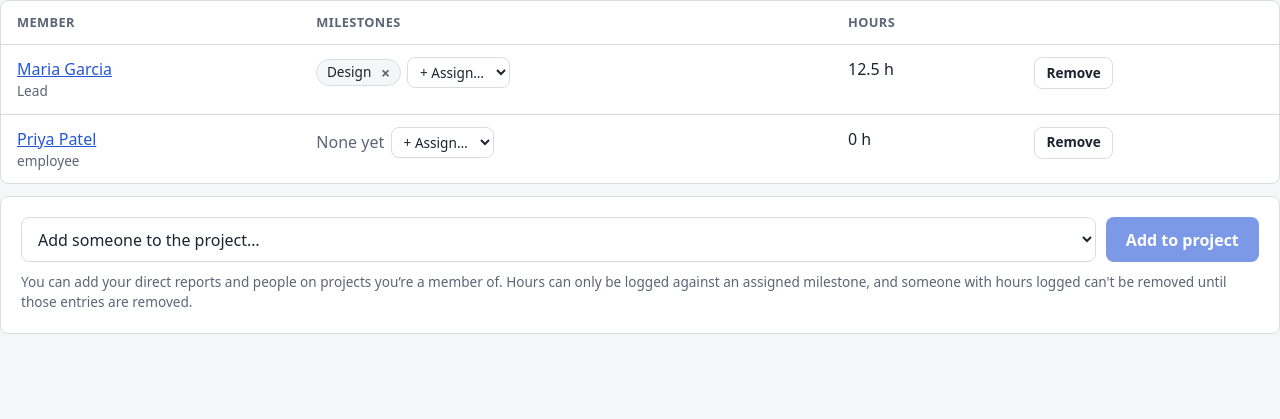
Test: TeamManager assign and unassign › shows the error when assigning fails
The width and height of the screenshot is (1280, 419).
Select "Build" in the dropdown named "Assign Maria Garcia to a milestone": {"x": 458, "y": 73} [407, 57, 510, 88]
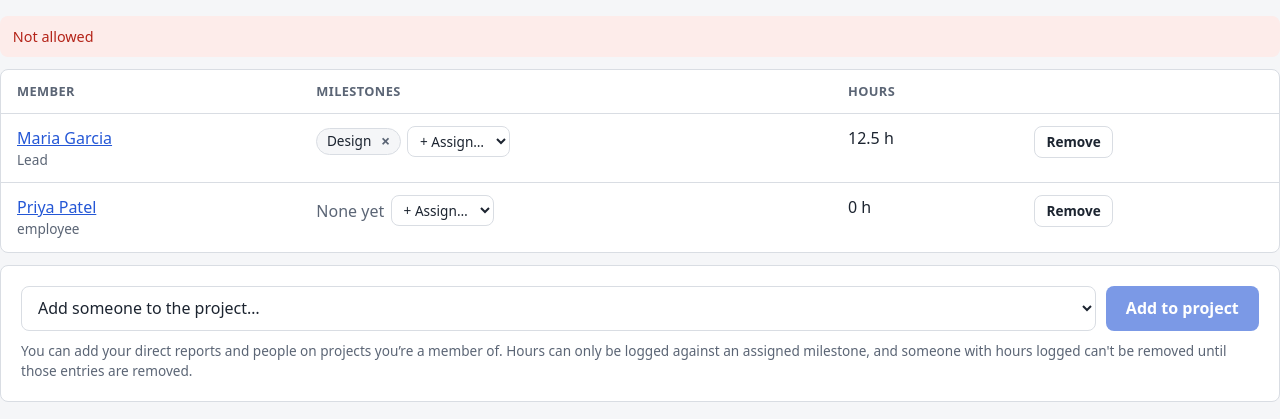
Check: the message reads "Not allowed", box [13, 27, 94, 46]
